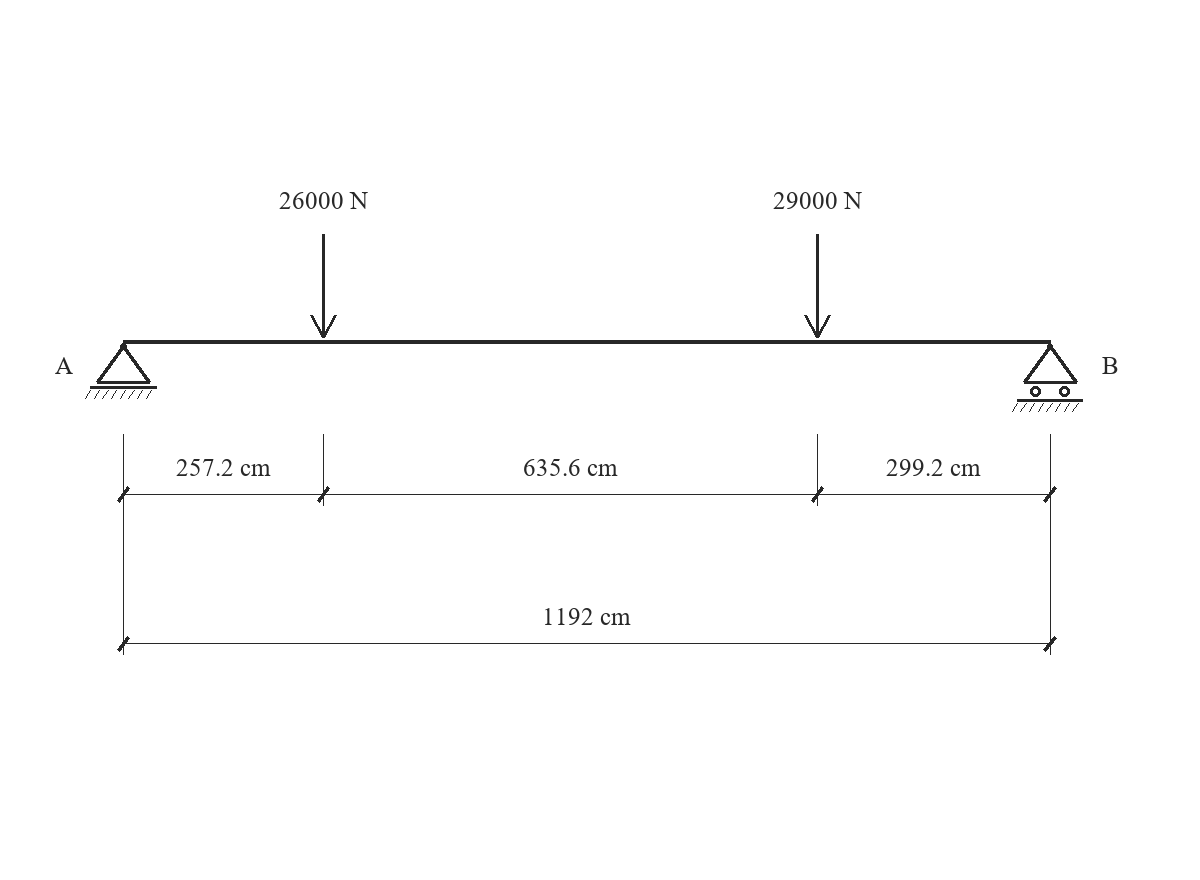pin_support: (85, 343, 157, 399)
point_load: (310, 234, 337, 338), (804, 234, 831, 338)
roller_support: (1012, 343, 1083, 412)
